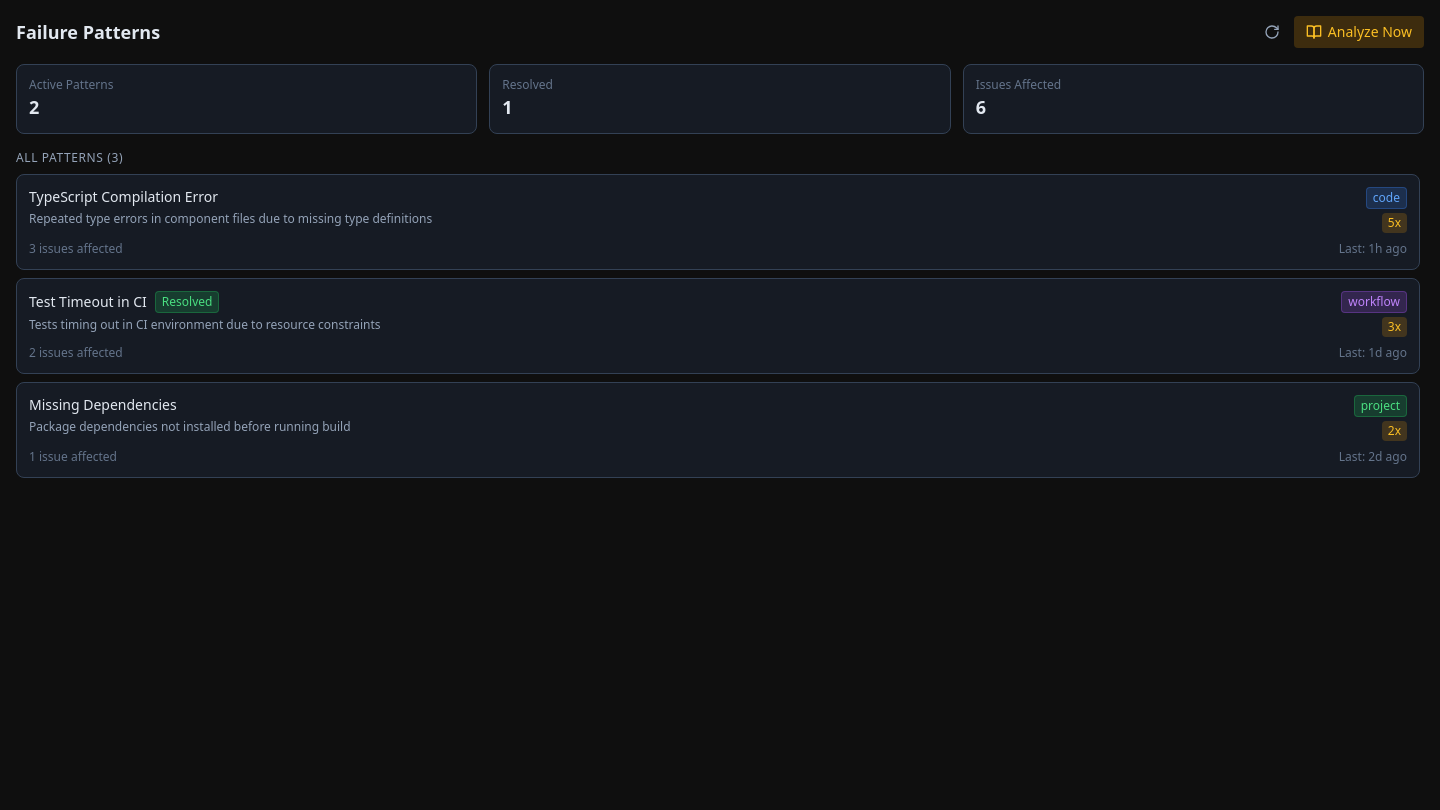
Test: PatternDashboard › Pattern Selection and Detail › should show pattern detail when pattern is clicked
Expected: the text "TypeScript Compilation Error" is shown, [29,187,218,207]
Click the button with test id "pattern-card" that starts with "TypeScript Compilation Error".
click(124, 196)  # box [16,174,1420,270]
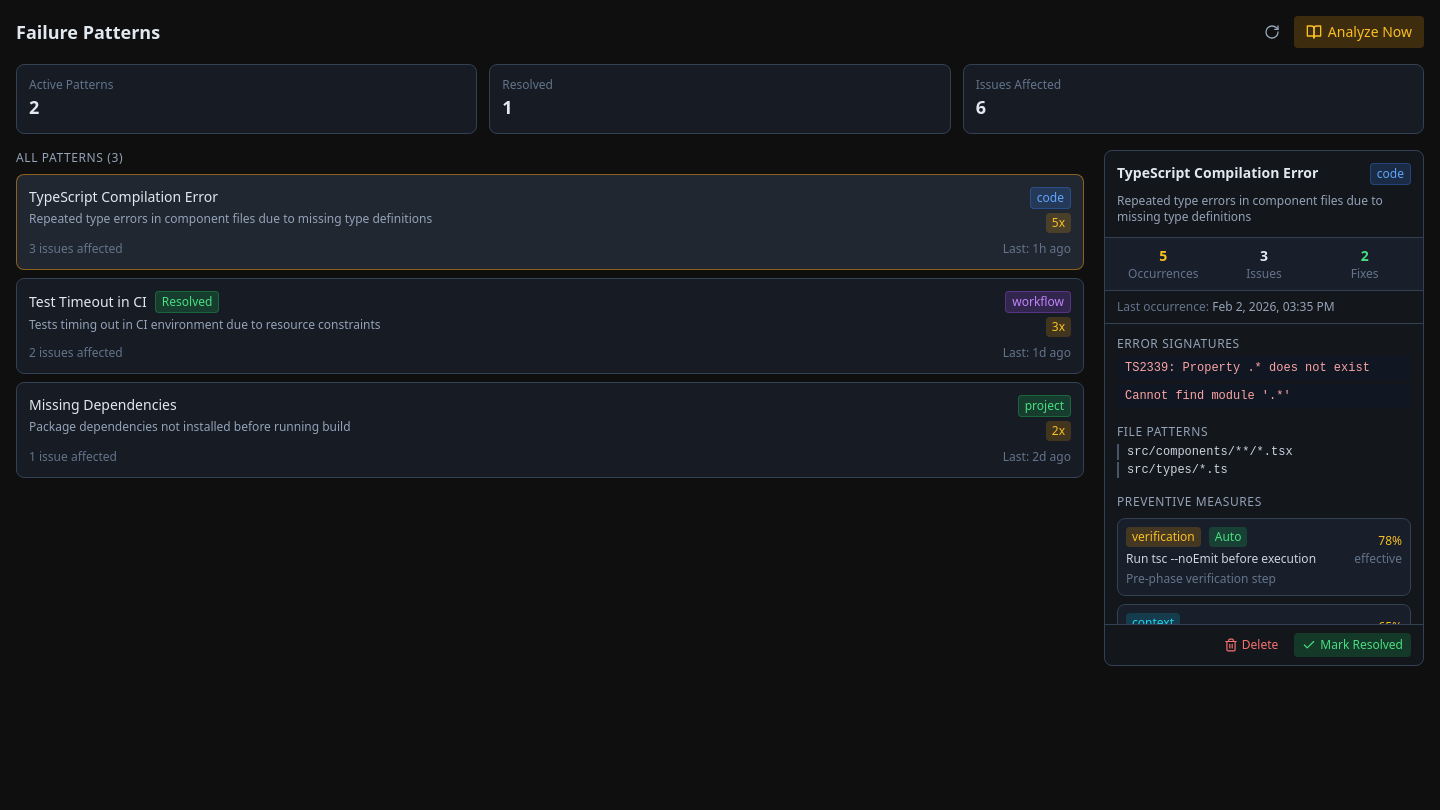
Expected: the element with test id "pattern-detail" is shown, [1104,150,1424,666]
